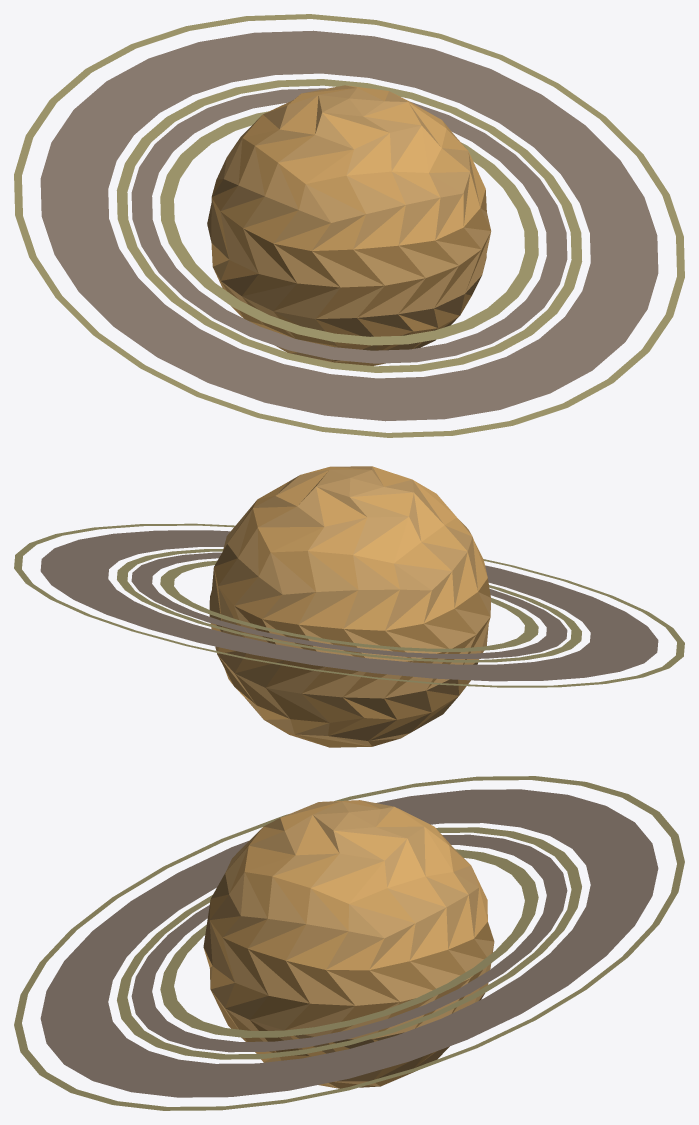
The model's file is Saturn 1.fbx.
The picture shows the model from 3 angles, top to bottom: view 1: azimuth 30°, elevation 25°; view 2: azimuth 150°, elevation 25°; view 3: azimuth 270°, elevation 25°; orthographic projection. The views are drawn at different scales.
Parts seen in each view (by area): view 1: SaturnsRings.001, Saturn.001; view 2: Saturn.001, SaturnsRings.001; view 3: SaturnsRings.001, Saturn.001.
Part boxes in pixels (box(x1,y1,x2,y2)): SaturnsRings.001: box(14, 14, 684, 437); Saturn.001: box(207, 85, 491, 365); Saturn.001: box(209, 466, 490, 747); SaturnsRings.001: box(14, 523, 684, 687); SaturnsRings.001: box(14, 776, 684, 1110); Saturn.001: box(203, 800, 494, 1088).
Size of the model in its own units: 693 by 291 by 669.
